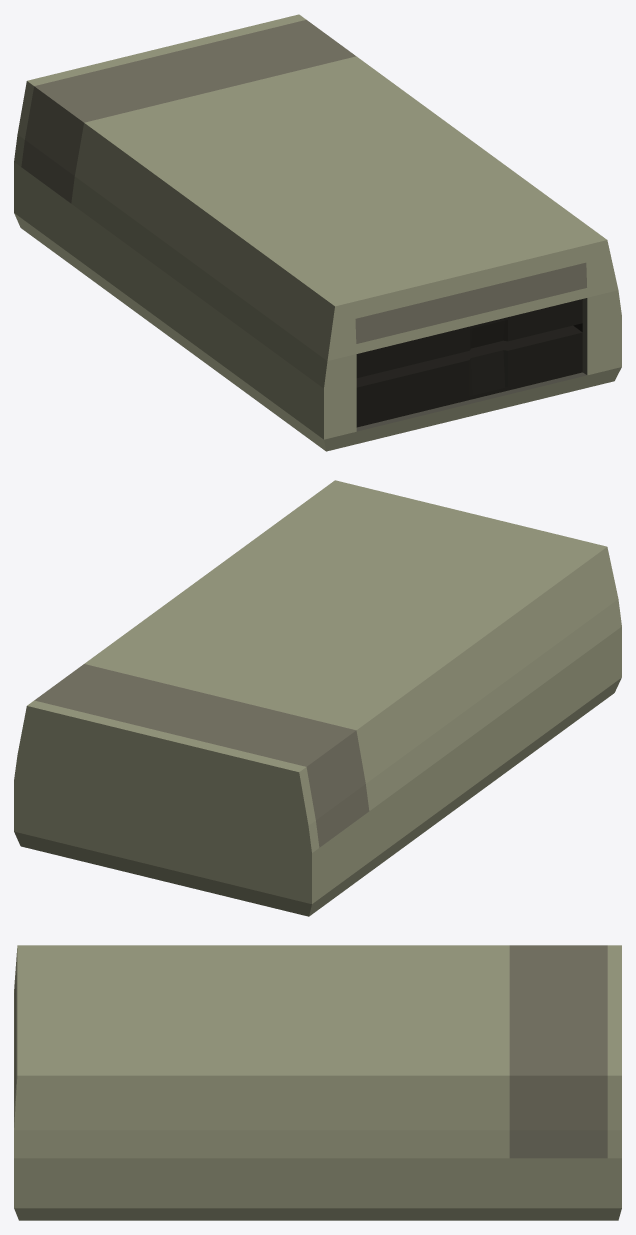
Rendered from Commandore1541.fbx.
3 renders of one model, top to bottom at view 1: azimuth 30°, elevation 25°; view 2: azimuth 150°, elevation 25°; view 3: azimuth 270°, elevation 25°, orthographic.
Parts seen in each view (by area): view 1: Commodore1541; view 2: Commodore1541; view 3: Commodore1541.
Part boxes in pixels (left/top/right/bottom): Commodore1541: left=14, top=14, right=621, bottom=451; Commodore1541: left=14, top=480, right=621, bottom=916; Commodore1541: left=14, top=945, right=621, bottom=1220.
Size of the model in its own units: 17.84 by 8.23 by 32.13.
